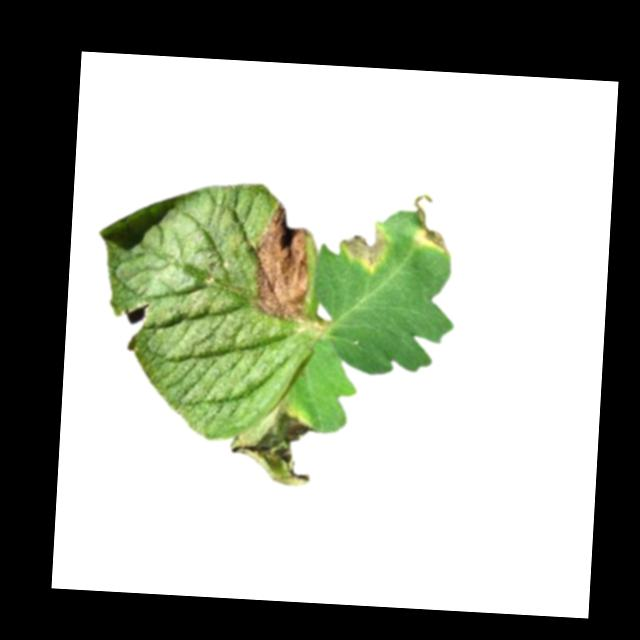Late_blight: (225, 398, 316, 489), (249, 202, 313, 322), (409, 192, 452, 257), (340, 221, 388, 276)
